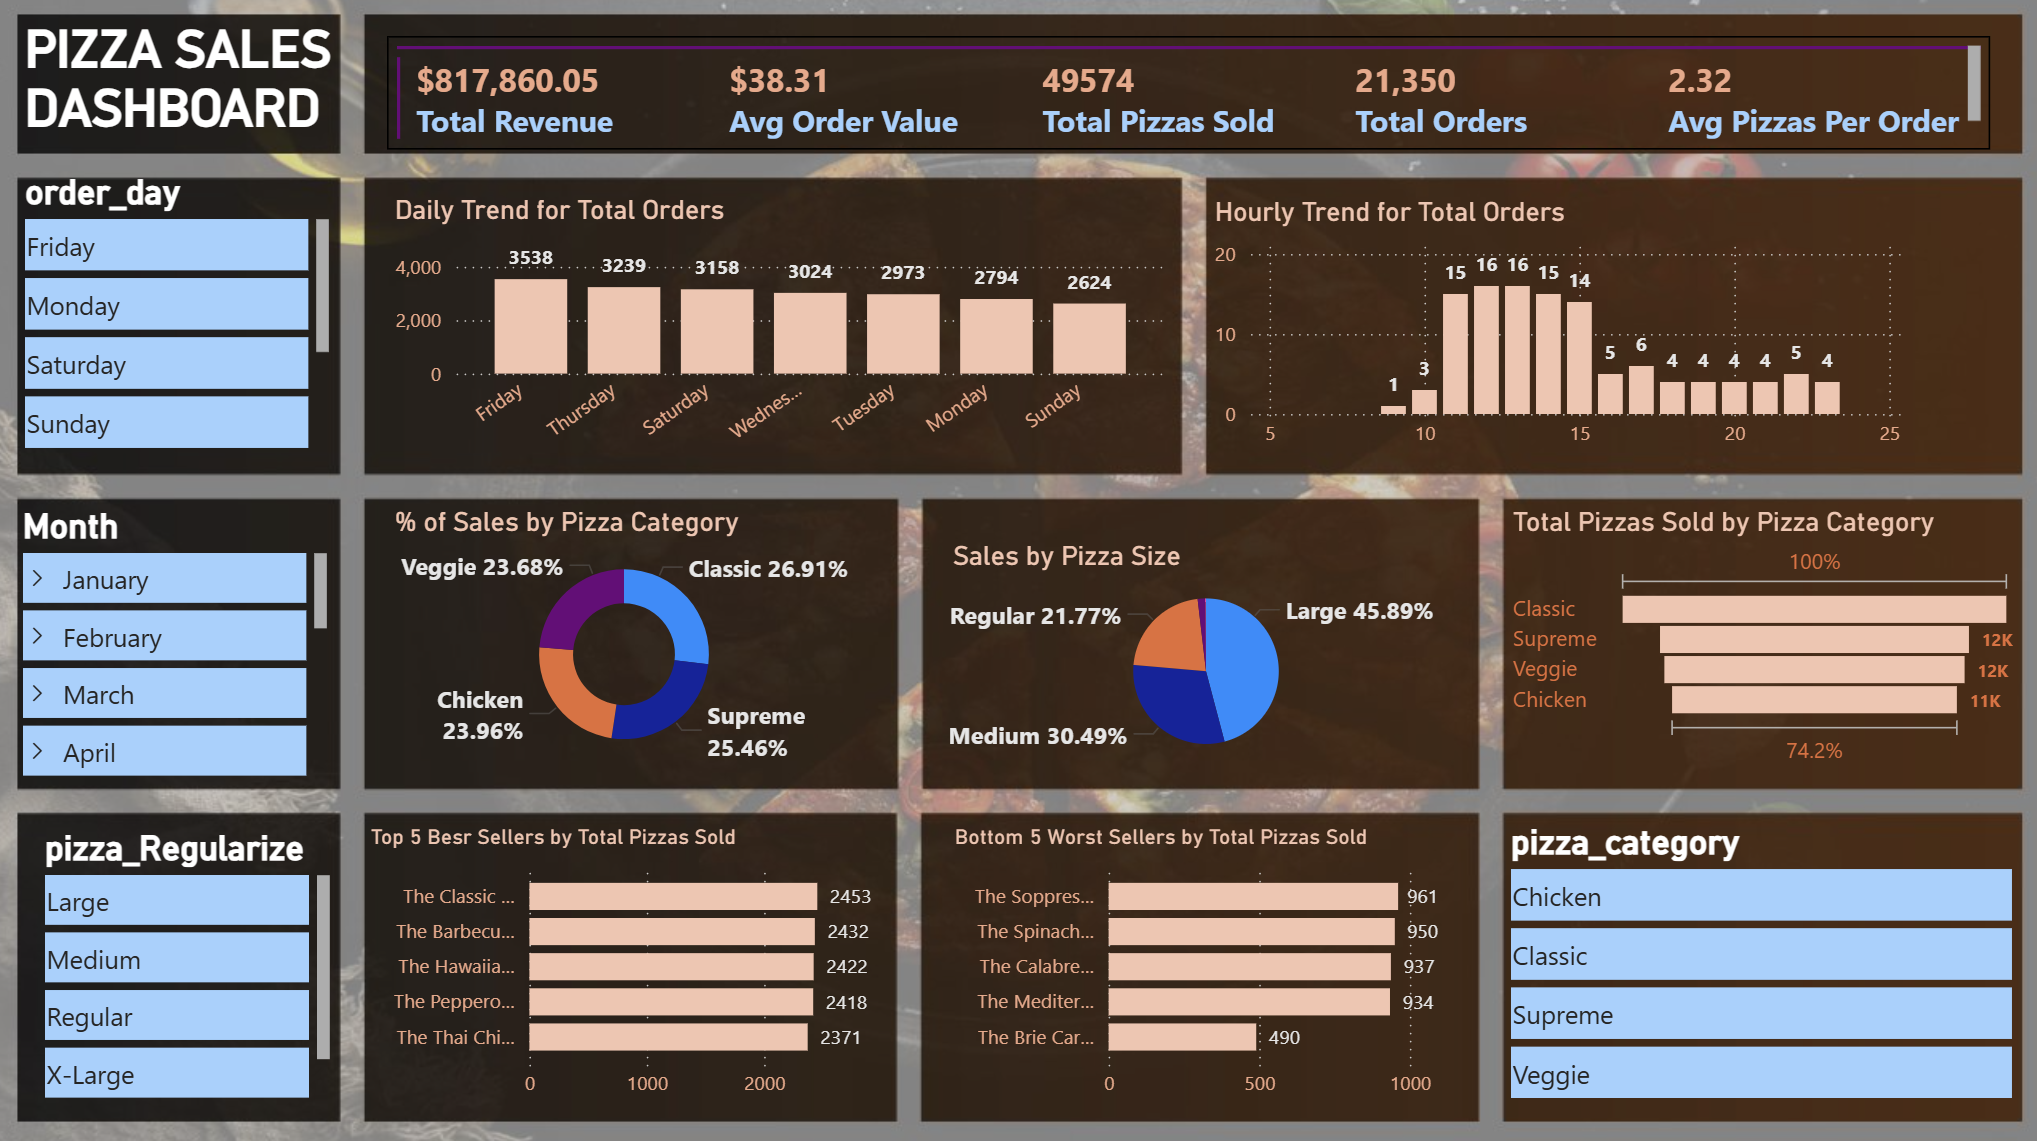

This screenshot's page, from the dashboard's own definition file:
{"tool":"powerbi","page":{"name":"Page 1","canvas":[1400,913],"ordinal":0},"visuals":[{"type":"multiRowCard","fields":{"Values":["pizza_sales.Total Revenue","pizza_sales.Avg Order Value","pizza_sales.Total Pizzas Sold","pizza_sales.Total Orders","pizza_sales.Avg Pizzas Per Order"]},"box":[305.6,121.1,1002.2,71.1],"z":0},{"type":"clusteredColumnChart","title":"Daily Trend for Total Orders","fields":{"Category":["pizza_sales.order_day"],"Y":["pizza_sales.Total Orders"]},"box":[305,220,491.2,166.2],"z":1000},{"type":"pieChart","title":"Sales by Pizza Size","fields":{"Category":["pizza_sales.pizza_Regularize"],"Y":["pizza_sales.Total Revenue"]},"box":[653.8,436.2,326.2,145],"z":2000},{"type":"barChart","title":"Top 5 Besr Sellers by Total Pizzas Sold","fields":{"Category":["pizza_sales.pizza_name"],"Y":["Sum(pizza_sales.quantity)"]},"box":[290,613.3,336.7,180],"z":3000},{"type":"listSlicer","fields":{"Values":["pizza_sales.order_day"]},"box":[73.3,206.7,200,180],"z":4000},{"type":"listSlicer","fields":{"Values":["pizza_sales.pizza_category"]},"box":[1003,613,323,181],"z":5000},{"type":"listSlicer","fields":{"Values":["pizza_sales.pizza_Regularize"]},"box":[86.7,616.7,188.3,176.7],"z":6000},{"type":"barChart","title":"Bottom 5 Worst Sellers by Total Pizzas Sold","fields":{"Category":["pizza_sales.pizza_name"],"Y":["Sum(pizza_sales.quantity)"]},"box":[655,613.3,325,180],"z":8000},{"type":"donutChart","title":"% of Sales by Pizza Category","fields":{"Category":["pizza_sales.pizza_category"],"Y":["Sum(pizza_sales.total_price)"]},"box":[305,415,296.2,166.2],"z":9000},{"type":"lineStackedColumnComboChart","title":"Hourly Trend for Total Orders","fields":{"Category":["pizza_sales.Order hour"],"Y":["Count(pizza_sales.total_orders)"]},"box":[817.5,221.2,442.5,166.2],"z":10000},{"type":"funnel","title":"Total Pizzas Sold by Pizza Category","fields":{"Category":["pizza_sales.pizza_category"],"Y":["Sum(pizza_sales.quantity)"]},"box":[1003.3,415,323.3,166.7],"z":11000},{"type":"textbox","title":"PIZZA SALES DASHBOARD","box":[73.3,110,203.3,83.3],"z":12000},{"type":"listSlicer","fields":{"Values":["pizza_sales.order_date.Variation.Date Hierarchy.Month","pizza_sales.order_date.Variation.Date Hierarchy.Day"]},"box":[73,415,200,176],"z":12002}]}

Visuals, with their boxes on the page's 1400x913 design canvas (x1, y1, x2, y2). These are canvas units, not pixel positions in the 2037x1141 screenshot, which may show the page scaled, cropped or inside an application window:
multiRowCard - pizza_sales.Total Revenue x pizza_sales.Avg Order Value: region(306, 121, 1308, 192)
"Daily Trend for Total Orders" clusteredColumnChart: region(305, 220, 796, 386)
"Sales by Pizza Size" pieChart: region(654, 436, 980, 581)
"Top 5 Besr Sellers by Total Pizzas Sold" barChart: region(290, 613, 627, 793)
listSlicer - pizza_sales.order_day: region(73, 207, 273, 387)
listSlicer - pizza_sales.pizza_category: region(1003, 613, 1326, 794)
listSlicer - pizza_sales.pizza_Regularize: region(87, 617, 275, 793)
"Bottom 5 Worst Sellers by Total Pizzas Sold" barChart: region(655, 613, 980, 793)
"% of Sales by Pizza Category" donutChart: region(305, 415, 601, 581)
"Hourly Trend for Total Orders" lineStackedColumnComboChart: region(818, 221, 1260, 387)
"Total Pizzas Sold by Pizza Category" funnel: region(1003, 415, 1327, 582)
"PIZZA SALES DASHBOARD" textbox: region(73, 110, 277, 193)
listSlicer - pizza_sales.order_date.Variation.Date Hierarchy.Month x pizza_sales.order_date.Variation.Date Hierarchy.Day: region(73, 415, 273, 591)
